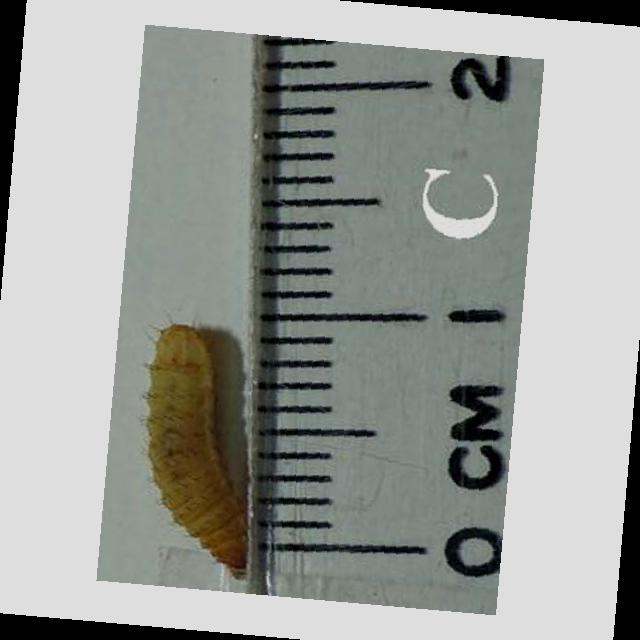Maggot: (146, 324, 258, 577)
